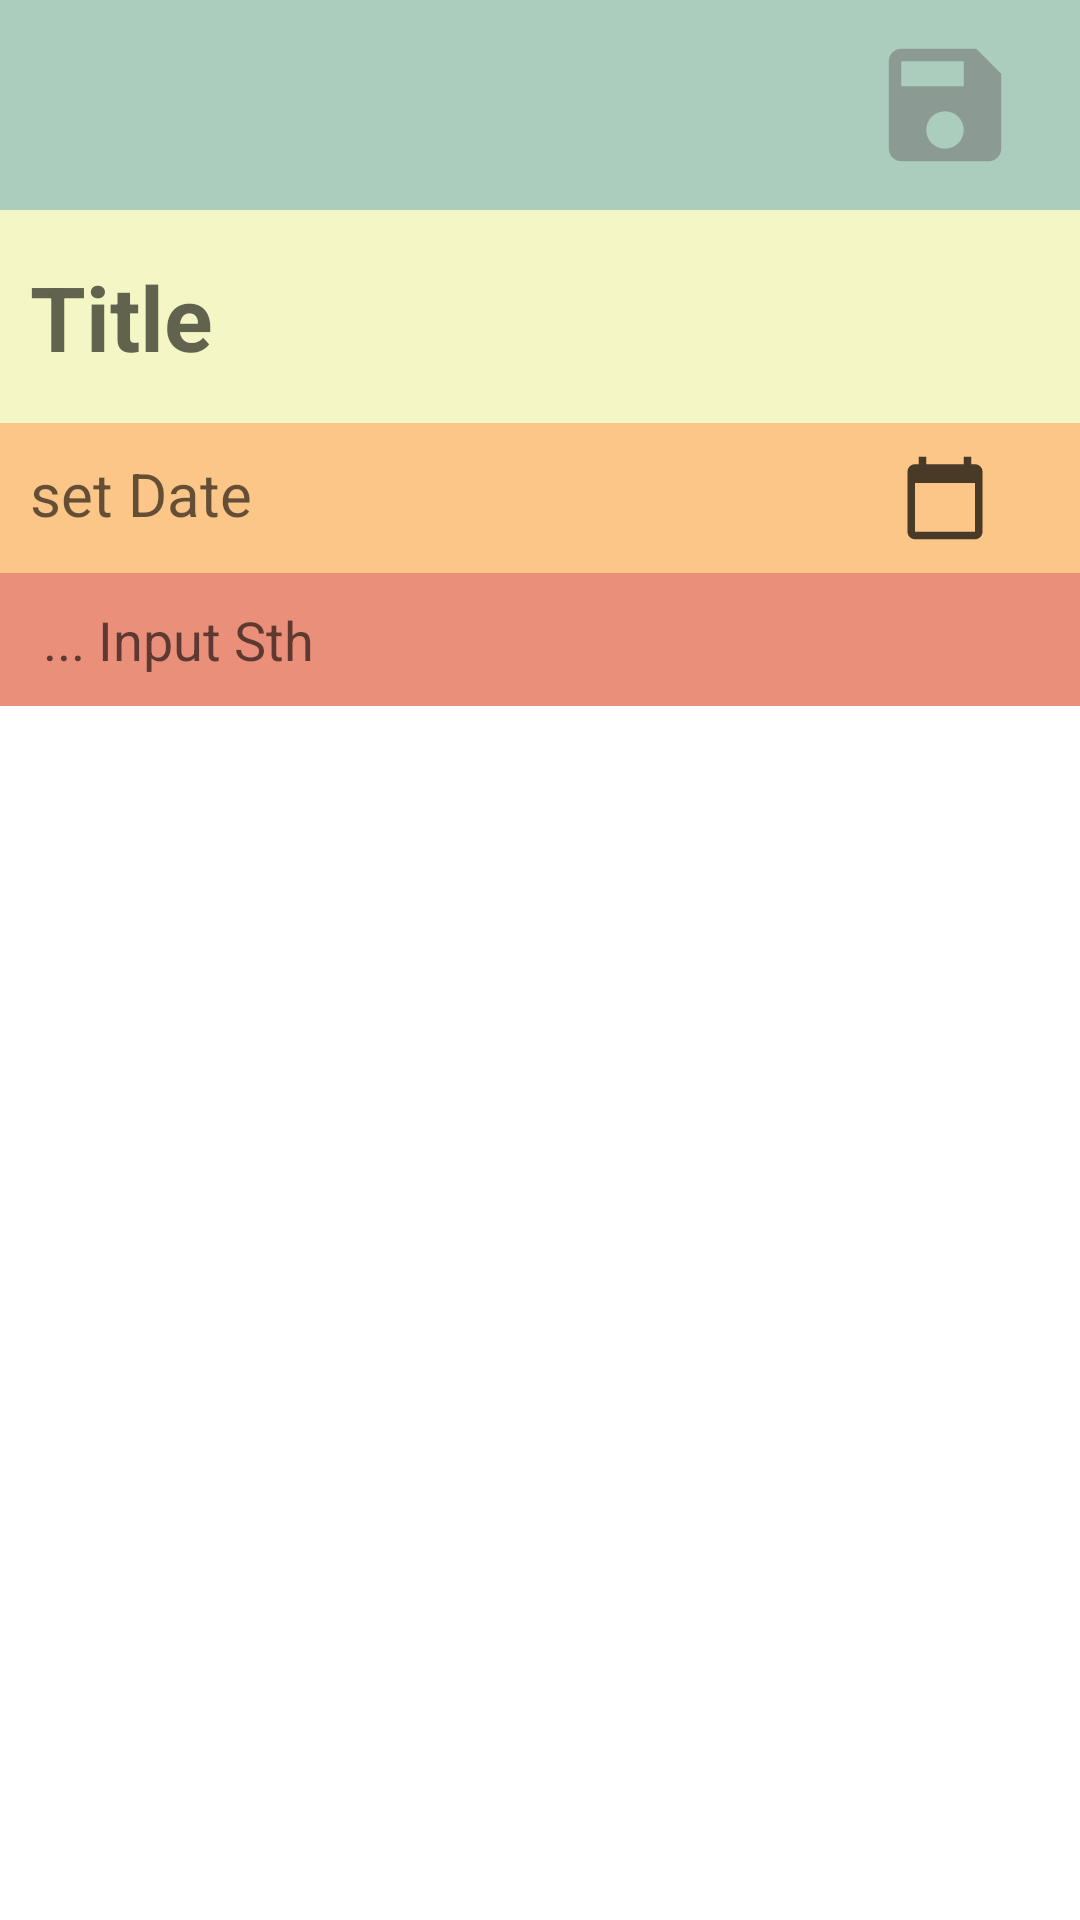

Named icons in this screenshot (1080w x 1920h) and their centers, (x,y):
calendar today: (945,498)
save: (945,105)
